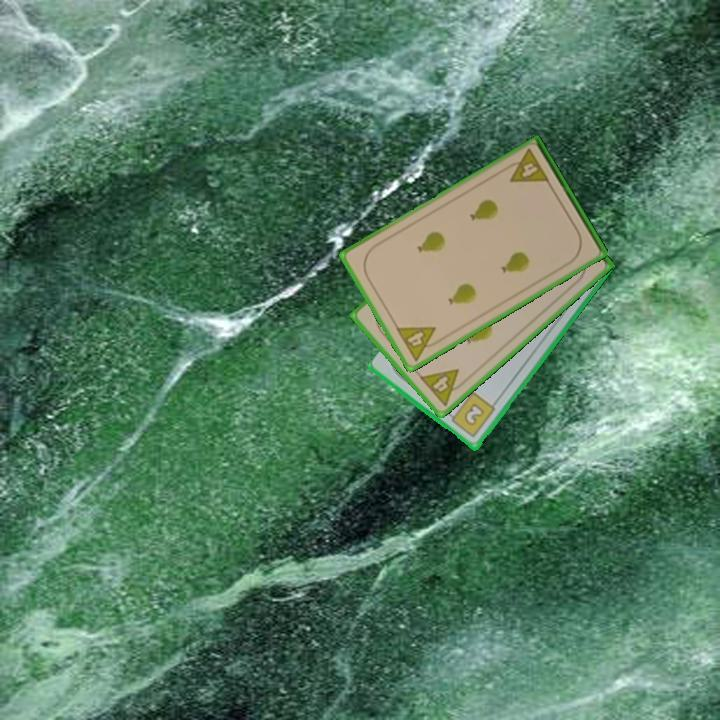2b: (444, 389, 498, 441)
4p: (416, 365, 470, 409), (392, 323, 445, 364), (501, 145, 552, 186)
